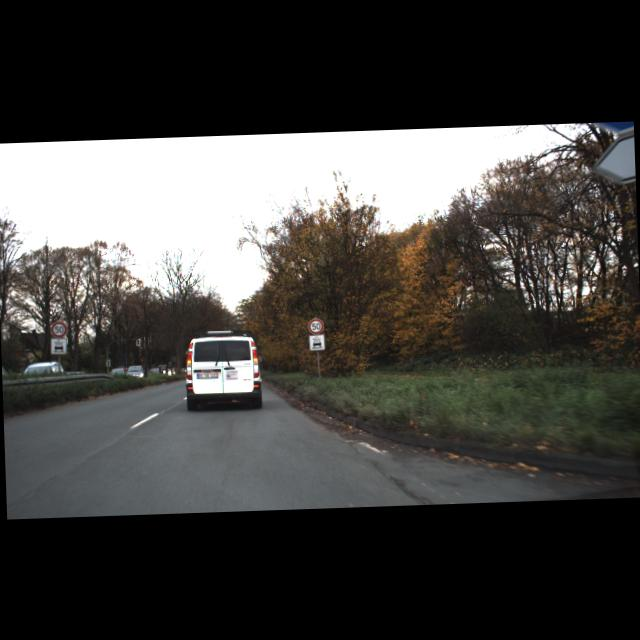prohibitory: (306, 318, 324, 334), (50, 320, 66, 338)
